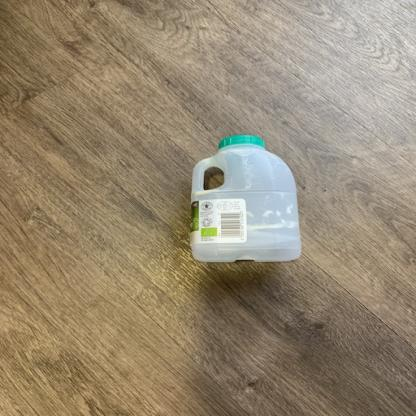trash: (189, 134, 301, 264)
